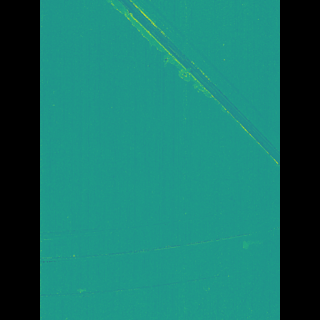Loch: (117, 0, 251, 171), (70, 202, 230, 247), (69, 227, 227, 265), (69, 270, 220, 302)
